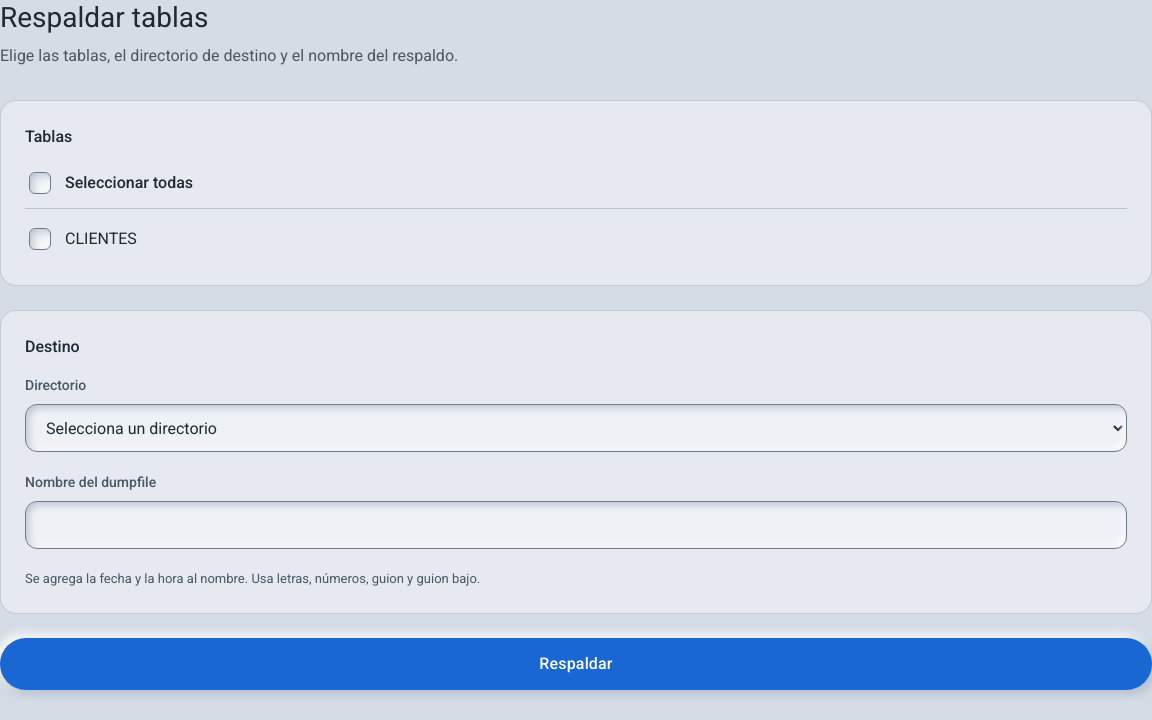
it: resultado del respaldo de tablas › muestra cada dato faltante cuando la solicitud es inválida
Click the button "Respaldar".
click(576, 664)  # box [0,638,1151,690]
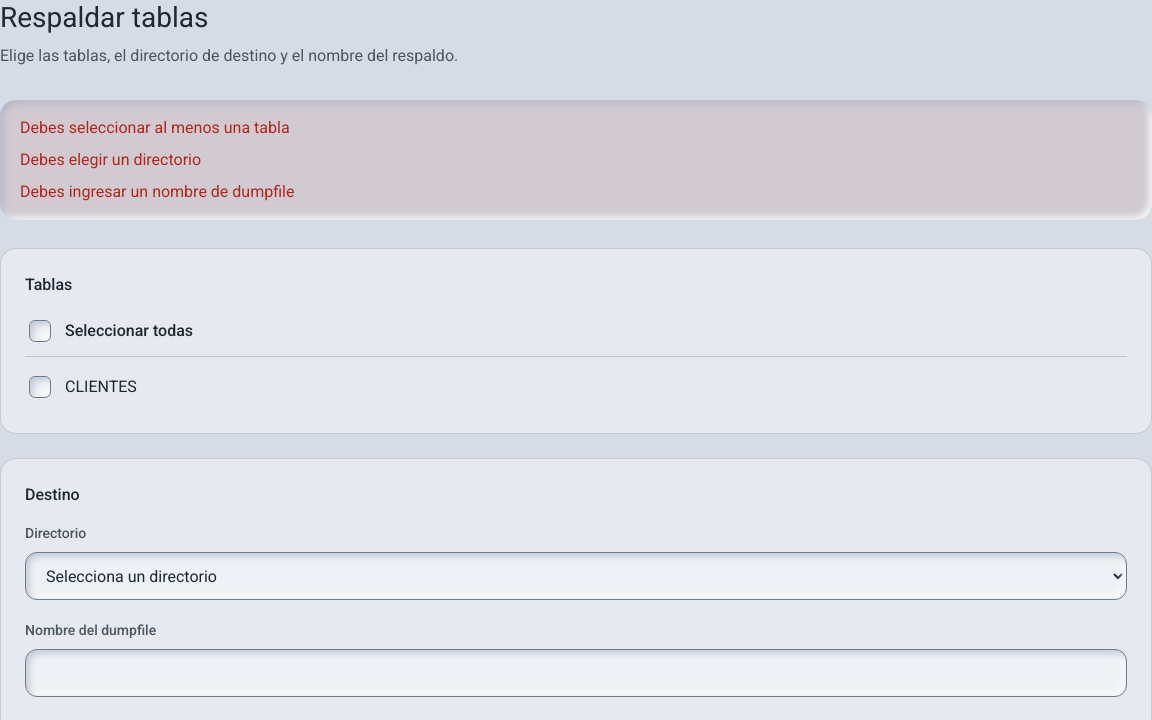
Result: the message shows "Debes seleccionar al menos una tabla" at [20,118,290,137]
Result: the message shows "Debes elegir un directorio" at [20,150,201,169]
Result: the message shows "Debes ingresar un nombre de dumpfile" at [20,182,294,201]
